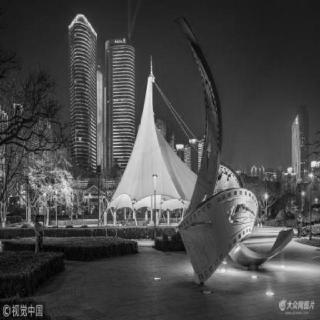other: (117, 66, 196, 196)
